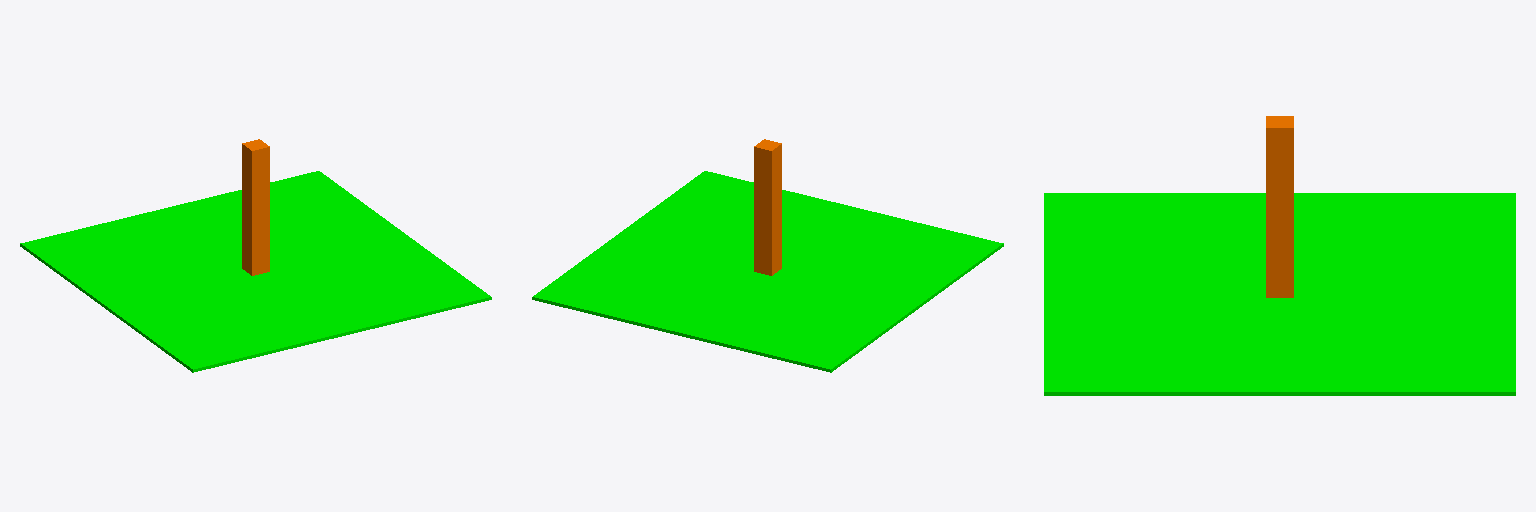
URDF robot description (scene_mingruiyu_0):
<?xml version="1.0" ?>
<!-- =================================================================================== -->
<!-- |    This document was autogenerated by xacro from scene_mingruiyu_0.xacro        | -->
<!-- |    EDITING THIS FILE BY HAND IS NOT RECOMMENDED                                 | -->
<!-- =================================================================================== -->
<robot name="scene_mingruiyu_0">
  <material name="dark_gray">
    <color rgba="0.2 0.2 0.2 1.0"/>
  </material>
  <material name="gray">
    <color rgba="0.3 0.3 0.3 1.0"/>
  </material>
  <material name="light_gray">
    <color rgba="0.4 0.4 0.4 1.0"/>
  </material>
  <material name="yellow">
    <color rgba="0.8 0.8 0.0 1.0"/>
  </material>
  <material name="orange">
    <color rgba="1.0 0.5 0.0 1.0"/>
  </material>
  <material name="green">
    <color rgba="0.0 1.0 0.0 1.0"/>
  </material>
  <material name="teal">
    <color rgba="0.0 1.0 1.0 1.0"/>
  </material>
  <material name="black">
    <color rgba="0.15 0.15 0.15 1.0"/>
  </material>
  <!-- GROUND PLANE -->
  <link name="ground_plane">
    <visual>
      <geometry>
        <box size="1 1 0.01"/>
      </geometry>
      <origin rpy="0 0 0" xyz="0 0 -0.005"/>
      <material name="green"/>
    </visual>
    <collision>
      <geometry>
        <box size="1 1 0.01"/>
      </geometry>
      <origin rpy="0 0 0" xyz="0 0 -0.005"/>
    </collision>
  </link>
  <link name="pole_1_root_link">
    <visual>
      <geometry>
        <box size="0.06 0.06 0.4"/>
      </geometry>
      <origin rpy="0 0 0" xyz="0 0 0.2"/>
      <material name="orange"/>
    </visual>
    <collision>
      <geometry>
        <box size="0.06 0.06 0.4"/>
      </geometry>
      <origin rpy="0 0 0" xyz="0 0 0.2"/>
    </collision>
  </link>
  <joint name="pole_1_fixture_joint" type="fixed">
    <parent link="ground_plane"/>
    <child link="pole_1_root_link"/>
    <origin rpy="0 0 0" xyz="0.0 0.0 0.0"/>
  </joint>
</robot>

--- What the picture shows (computed from the rendered views, not written in the file) ---
Views: 3 orthographic renders of the robot side by side, from view 1: azimuth 30°, elevation 25°; view 2: azimuth 150°, elevation 25°; view 3: azimuth 270°, elevation 25°.
Robot: scene_mingruiyu_0 — 2 links, 1 joints (1 fixed); root link ground_plane; default pose: all joints at 0.
Links seen in each view (by area): view 1: ground_plane, pole_1_root_link; view 2: ground_plane, pole_1_root_link; view 3: ground_plane, pole_1_root_link.
Boxes of the visible links, <box> form: ground_plane: <box>20,171,491,372</box>; pole_1_root_link: <box>242,139,269,275</box>; ground_plane: <box>532,171,1003,372</box>; pole_1_root_link: <box>754,139,781,275</box>; ground_plane: <box>1044,193,1515,395</box>; pole_1_root_link: <box>1266,116,1293,297</box>.
Size in the robot's own frame: 1 by 1 by 0.41 metres.
Geometry: primitives only (box / cylinder / sphere), no mesh files.
